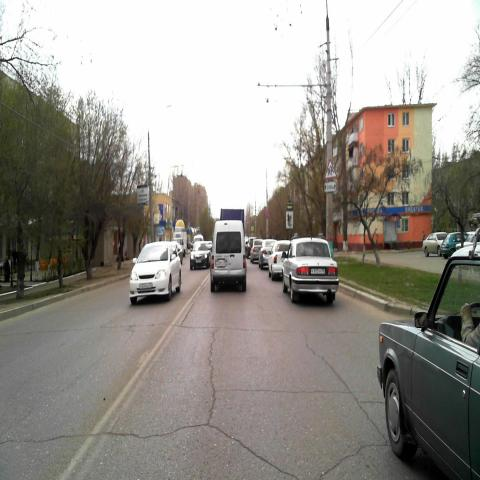8_2_1: (324, 181, 336, 192)
